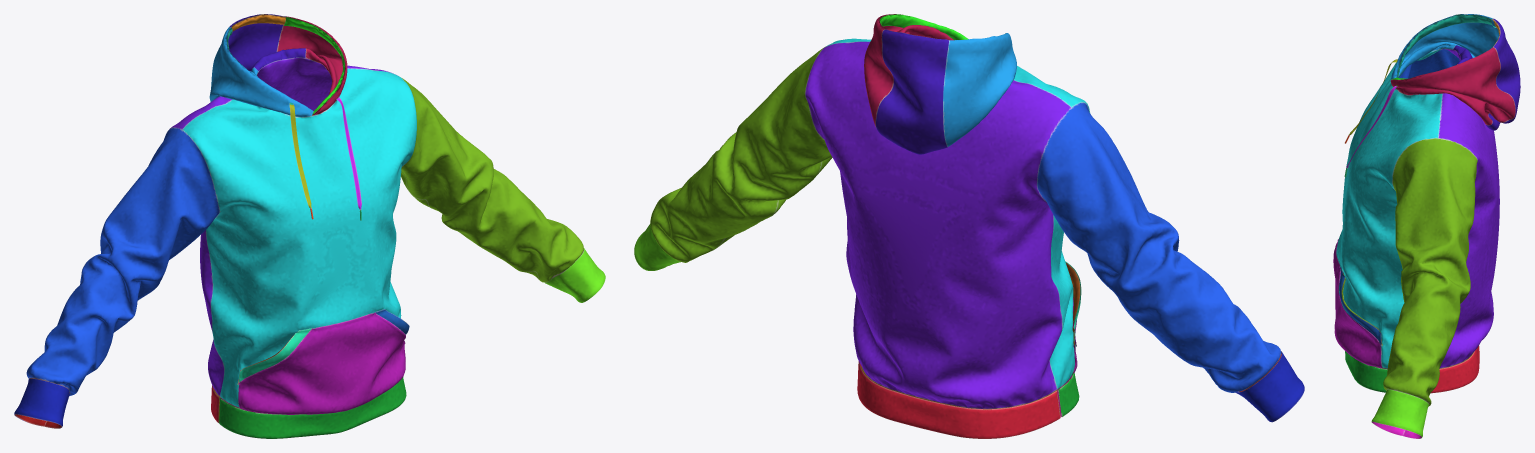
Rendered from designed-garment.glb.
The picture shows the model from 3 angles, left to right: view 1: azimuth 30°, elevation 25°; view 2: azimuth 150°, elevation 25°; view 3: azimuth 270°, elevation 25°; orthographic projection. The views are drawn at different scales.
Visible parts, largest first — view 1: 6_thin_unweld; view 2: 6_thin_unweld; view 3: 6_thin_unweld.
Boxes of the visible parts, left/top/right/bottom form: 6_thin_unweld: left=14, top=14, right=605, bottom=438; 6_thin_unweld: left=634, top=14, right=1304, bottom=438; 6_thin_unweld: left=1333, top=14, right=1520, bottom=438.
Bounding box in the file's own units: 119 × 69.48 × 35.83.
1 material, 1 textured.
